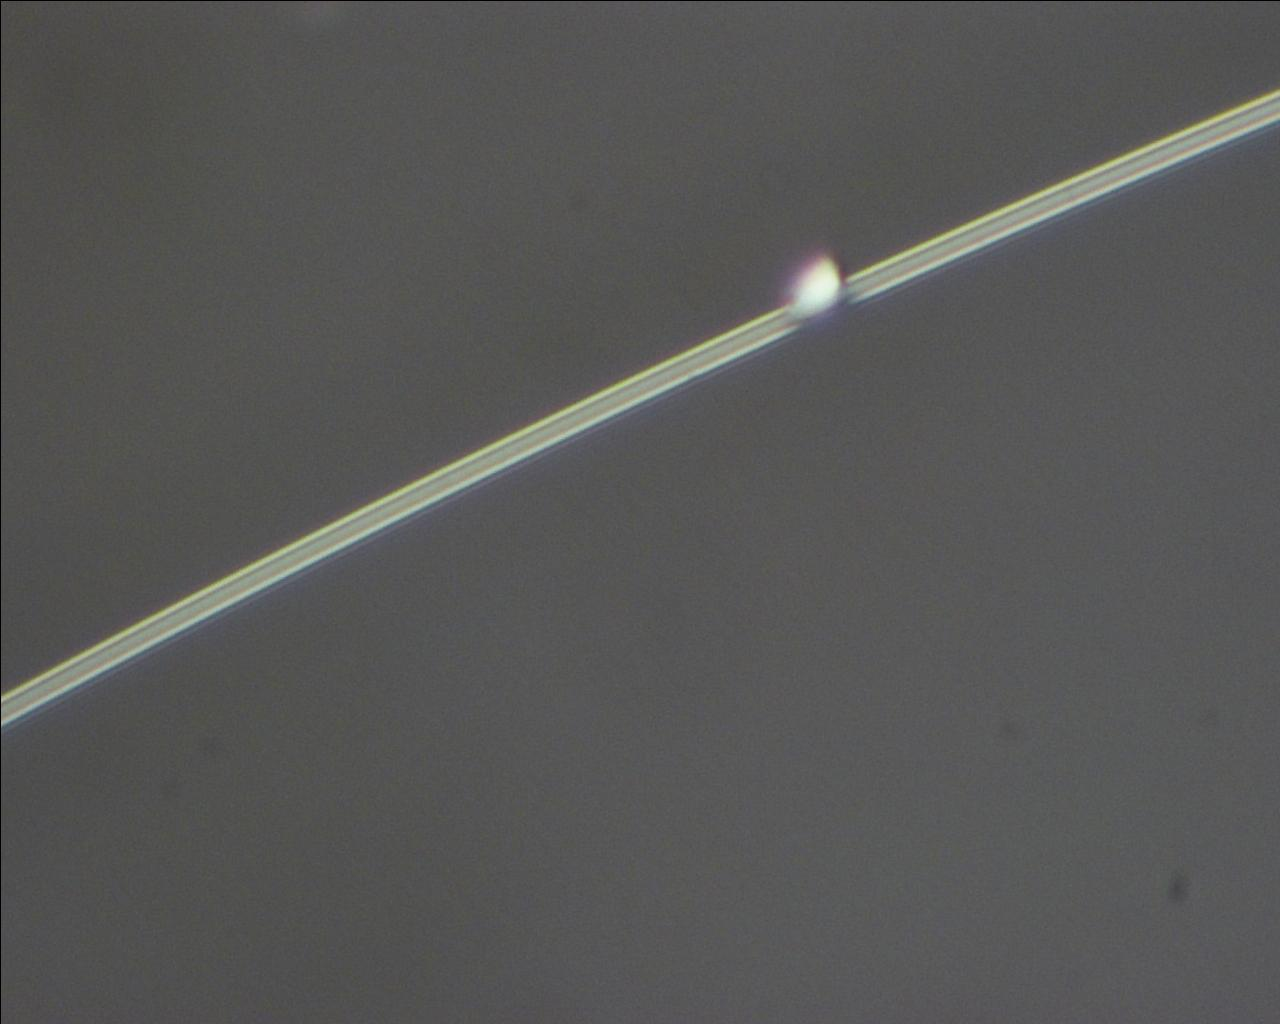fiber: (0, 86, 1280, 726)
